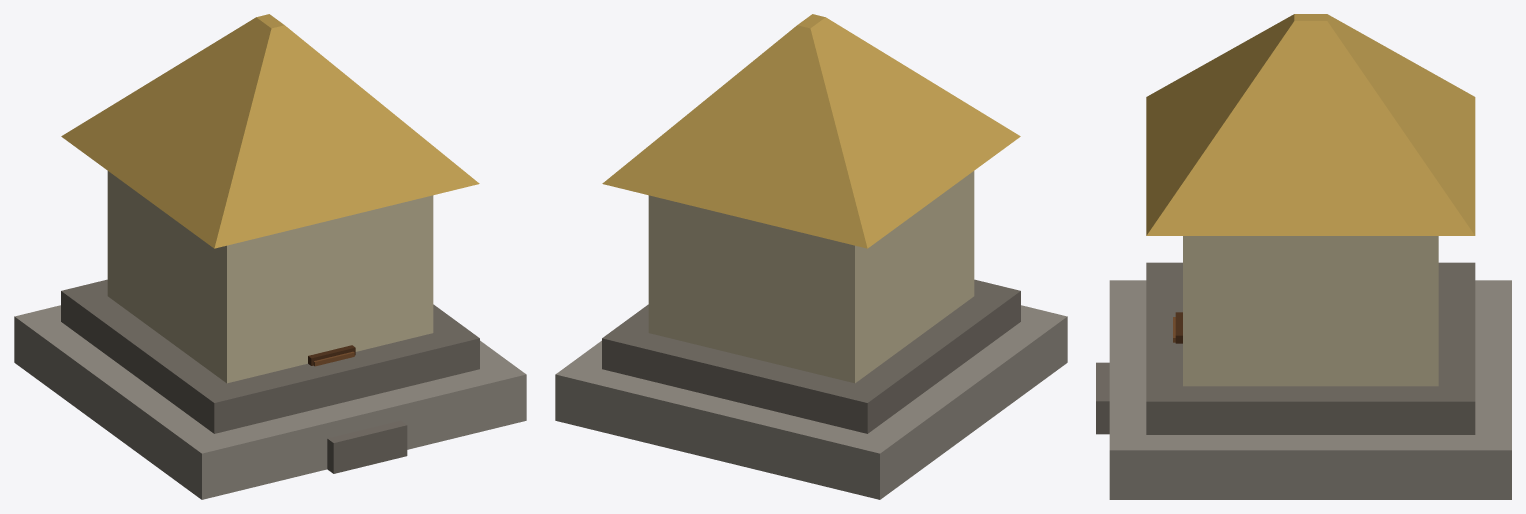
The model's file is frog_house_b.glb.
3 views of the same model, side by side, from view 1: azimuth 30°, elevation 25°; view 2: azimuth 150°, elevation 25°; view 3: azimuth 270°, elevation 25° (orthographic). The views are drawn at different scales.
Parts seen in each view (by area): view 1: frog_house_b; view 2: frog_house_b; view 3: frog_house_b.
Part boxes in pixels (x1,y1,x2,y2): frog_house_b: (14,14,526,499); frog_house_b: (555,14,1067,499); frog_house_b: (1096,14,1511,499).
Size of the model in its own units: 2.2 by 2.4 by 2.27.
